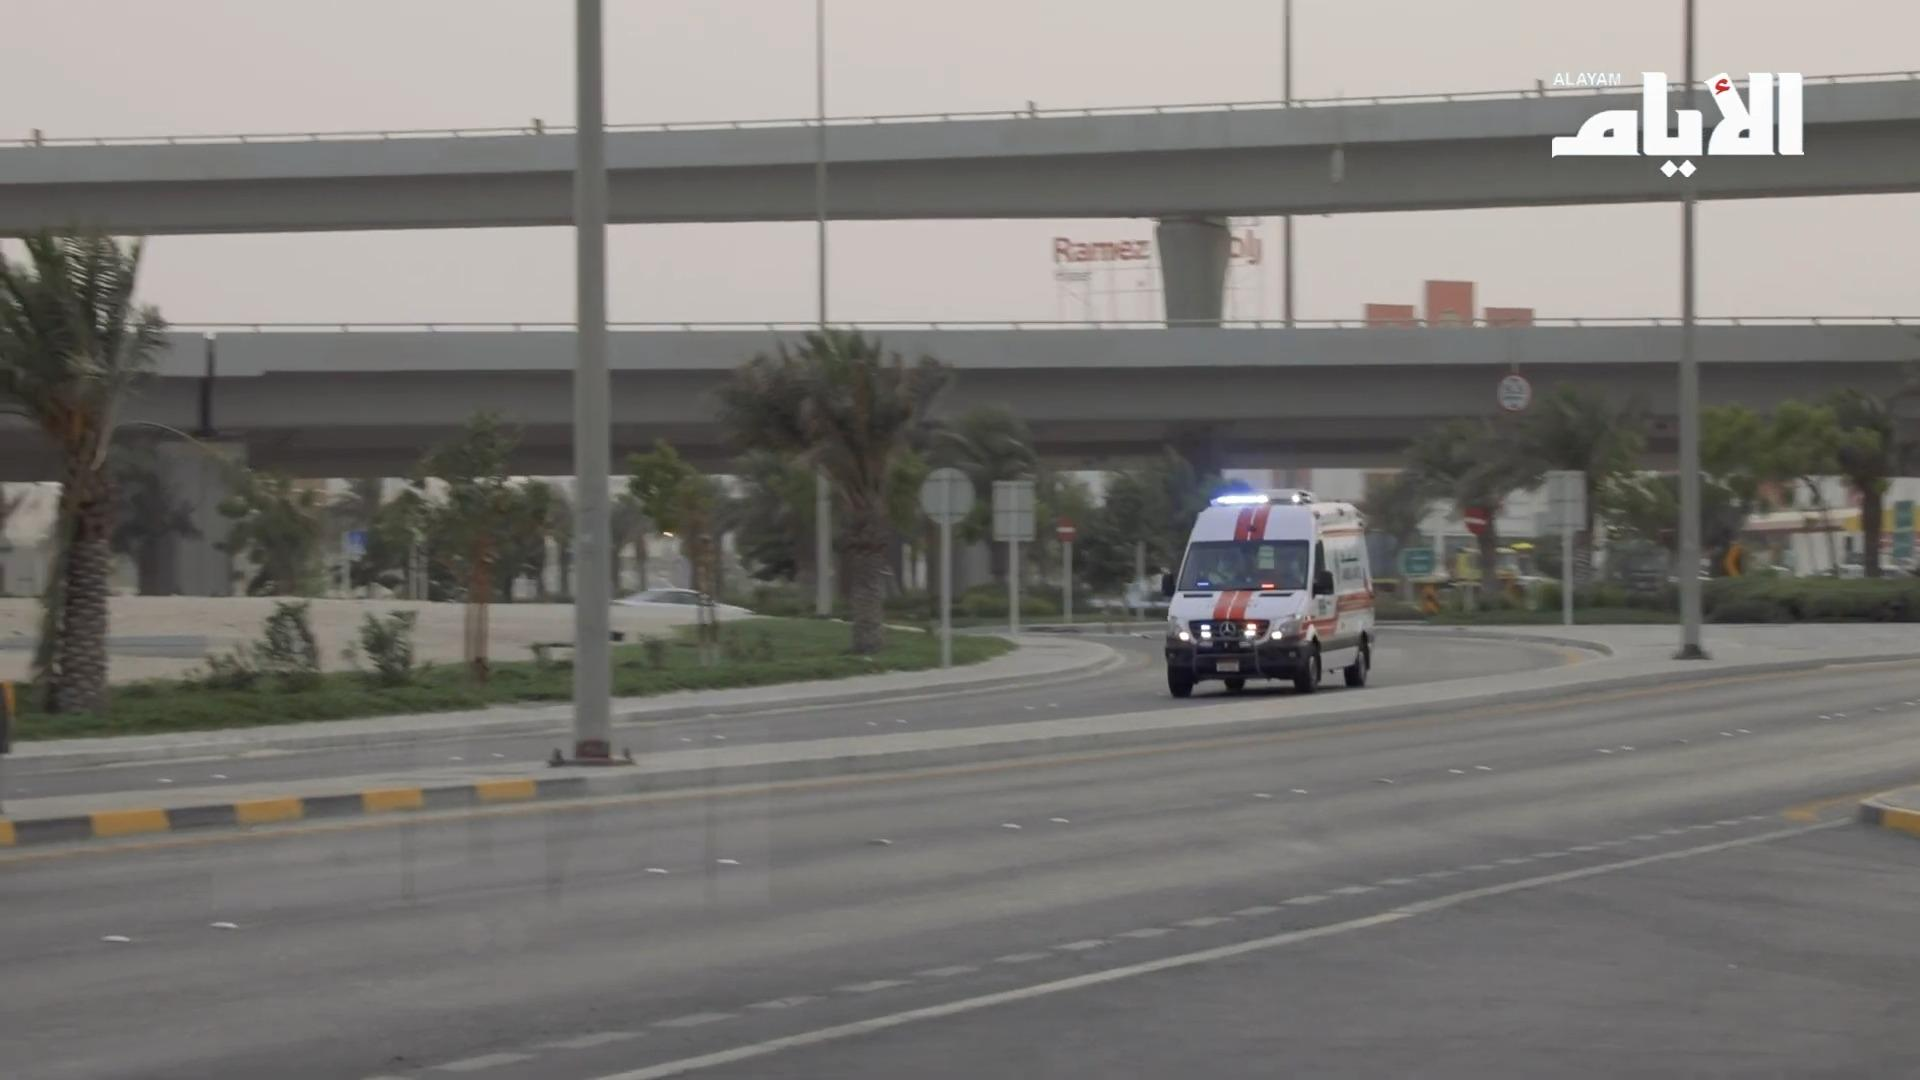ambulance_on: (1160, 488, 1375, 699)
